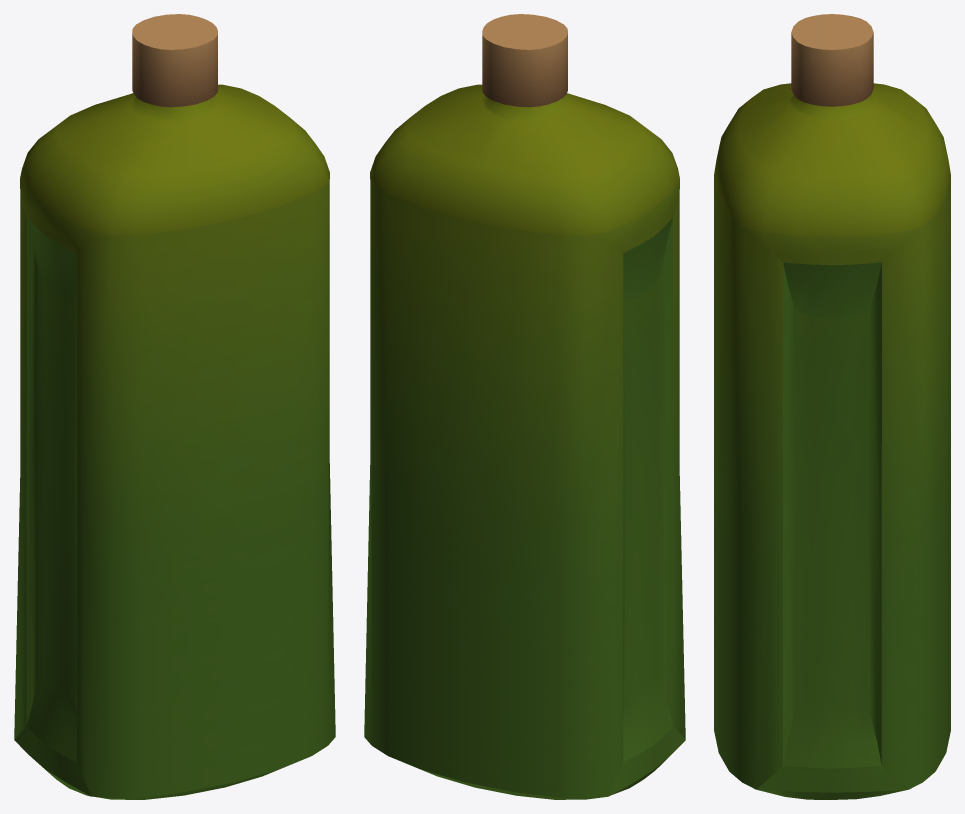
Rendered from oil.FBX.
3 renders of one model, left to right at view 1: azimuth 30°, elevation 25°; view 2: azimuth 150°, elevation 25°; view 3: azimuth 270°, elevation 25°, orthographic.
Visible parts, largest first — view 1: Cylinder003; view 2: Cylinder003; view 3: Cylinder003.
Boxes of the visible parts, box(x1,y1,x2,y2) form: Cylinder003: box(14, 14, 335, 799); Cylinder003: box(364, 14, 685, 799); Cylinder003: box(714, 14, 950, 799).
Size of the model in its own units: 32.88 by 87.6 by 26.46.
1 material, 1 textured.
